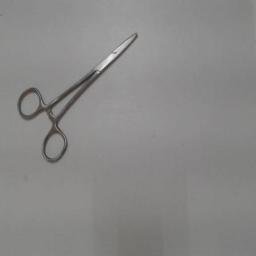Mayo Needle Holder: (11, 21, 151, 167)
